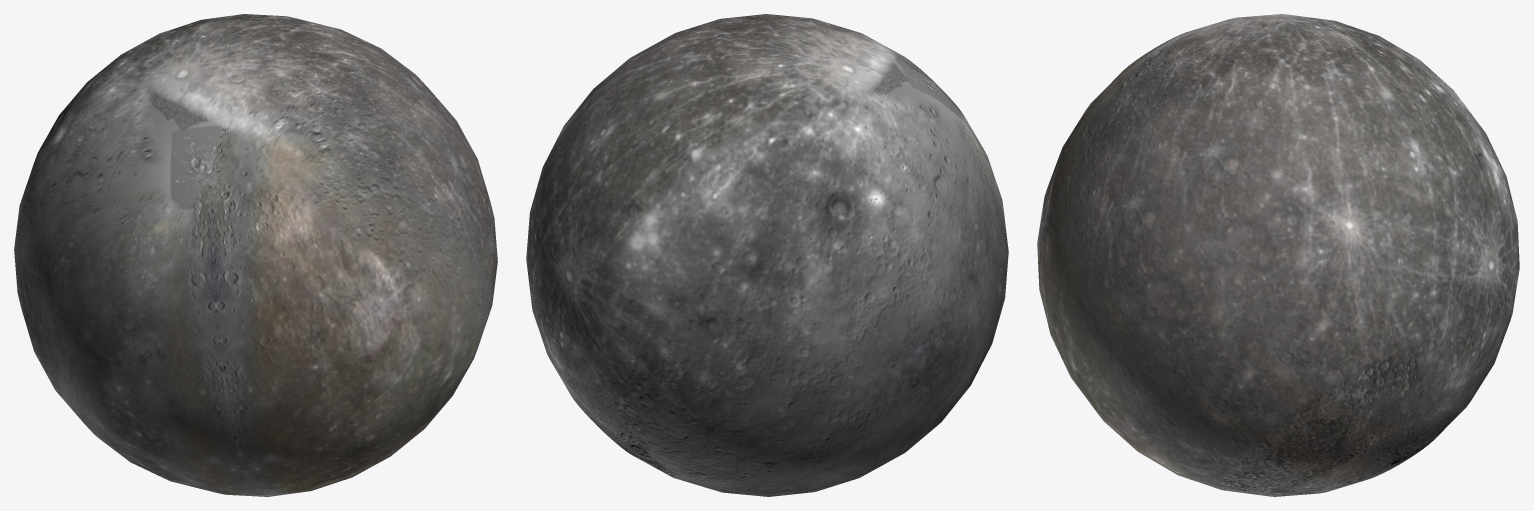
The model's file is mercury.fbx.
3 views of the same model, side by side, from view 1: azimuth 30°, elevation 25°; view 2: azimuth 150°, elevation 25°; view 3: azimuth 270°, elevation 25° (orthographic).
Parts seen in each view (by area): view 1: Mercury; view 2: Mercury; view 3: Mercury.
Part boxes in pixels (<box>): Mercury: <box>14,14,497,496</box>; Mercury: <box>526,14,1008,496</box>; Mercury: <box>1037,14,1519,496</box>.
Bounding box in the file's own units: 1.6 × 1.6 × 1.6.
Materials: 1 (1 with a texture image).
